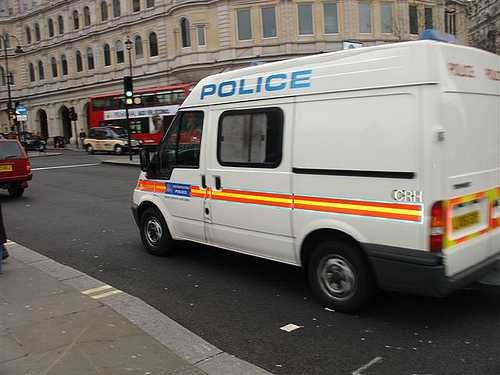Police Van: (119, 39, 500, 278)
